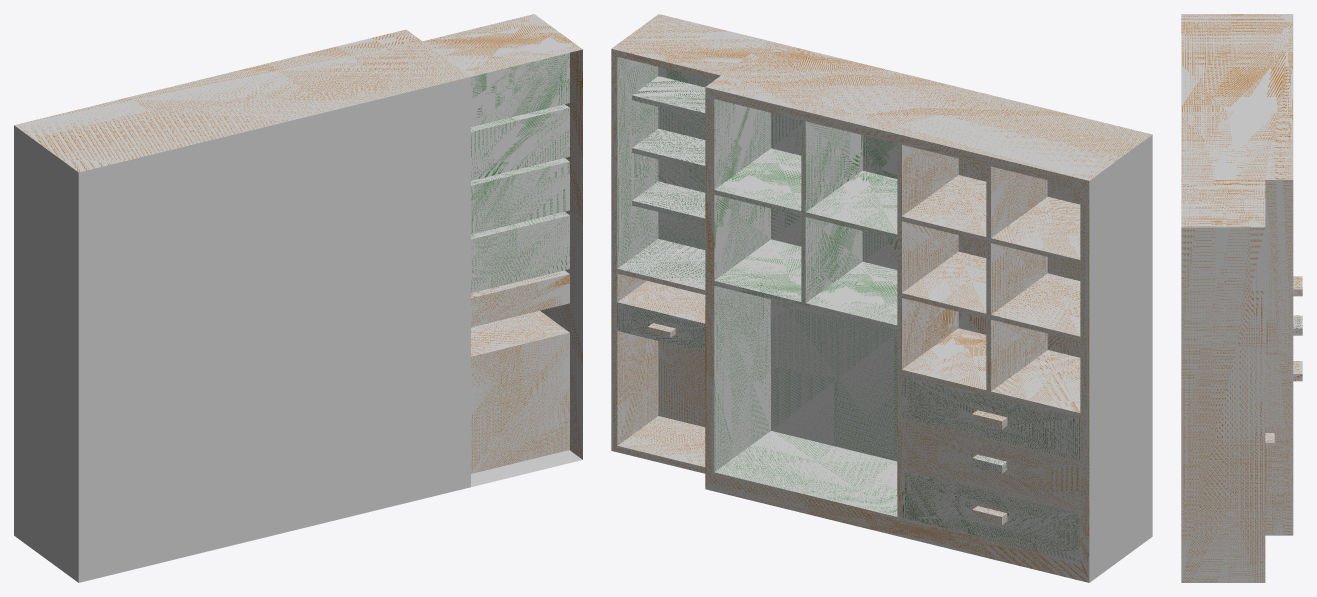
3 renders of one model, left to right at view 1: azimuth 30°, elevation 25°; view 2: azimuth 150°, elevation 25°; view 3: azimuth 270°, elevation 25°, orthographic. The views are drawn at different scales.
Visible parts, largest first — view 1: mesh1_mesh1-geometry; view 2: mesh1_mesh1-geometry; view 3: mesh1_mesh1-geometry.
Part boxes in pixels (bbox=[...]): mesh1_mesh1-geometry: bbox=[14, 14, 582, 582]; mesh1_mesh1-geometry: bbox=[611, 14, 1152, 582]; mesh1_mesh1-geometry: bbox=[1181, 14, 1302, 582].
Bounding box in the file's own units: 0.7755 × 0.6031 × 0.1867.
